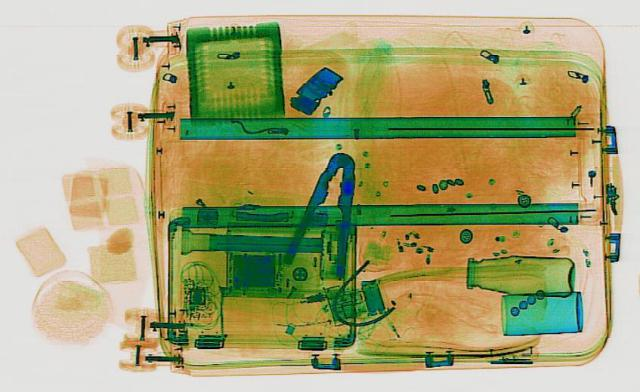Pliers: (274, 148, 378, 276)
